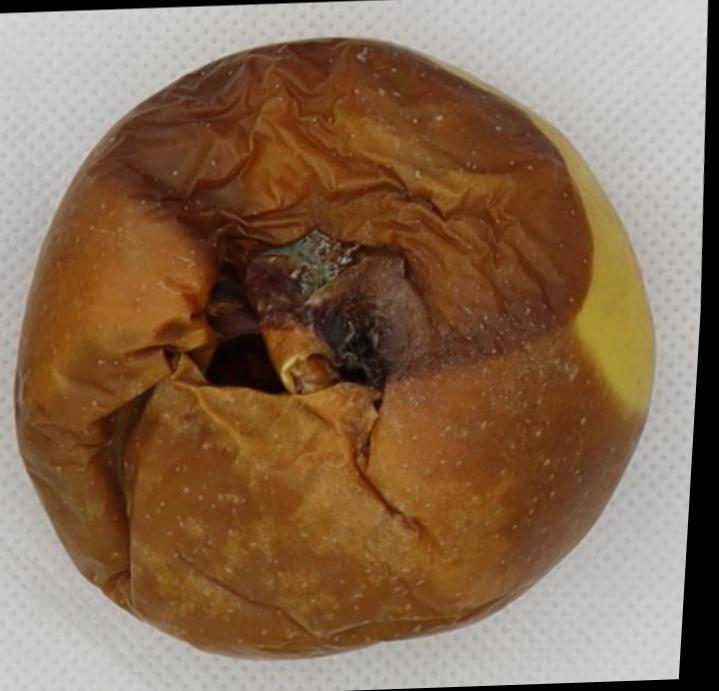apple: (14, 40, 651, 658)
rot_mold_decay: (14, 40, 633, 657)
